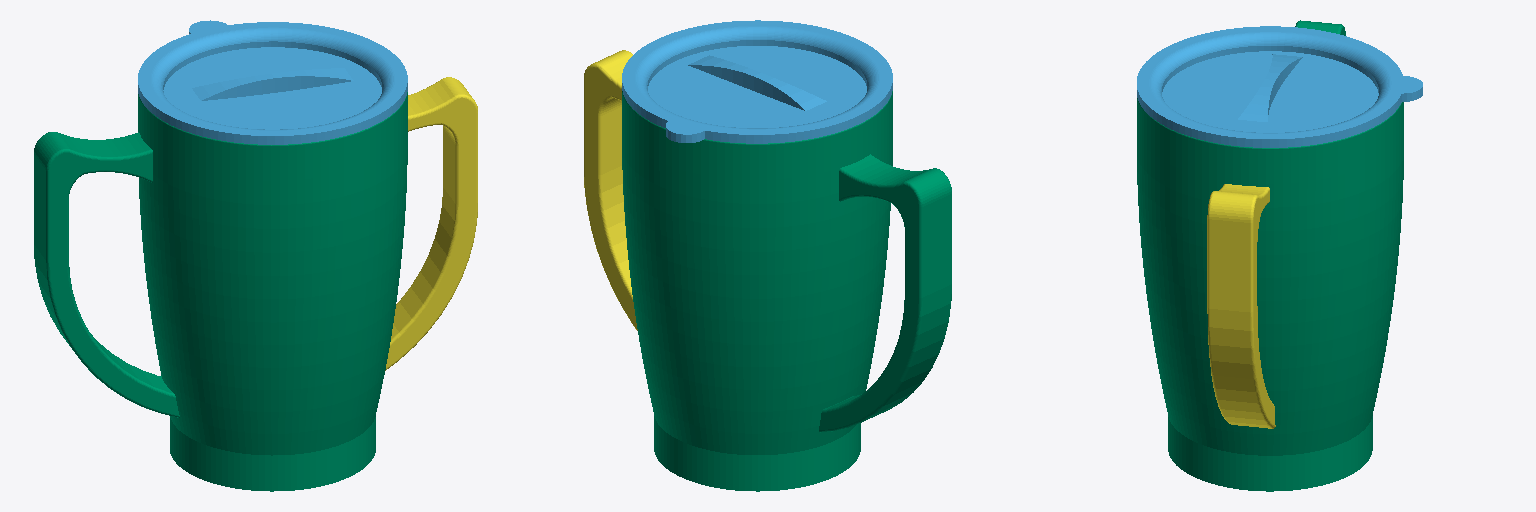
URDF robot description (partnet_fd1f9e8add1fcbd123c841f9d5051936):
<?xml version="1.0" ?>
<robot name="partnet_fd1f9e8add1fcbd123c841f9d5051936">
	<link name="base"/>
	<link name="link_0">
		<visual name="lid-3">
			<origin xyz="0.0013007224518146773 0 0.006225716369432219"/>
			<geometry>
				<mesh filename="textured_objs/original-1.obj" scale="0.1 0.1 0.1"/>
			</geometry>
		</visual>
		<visual name="lid-3">
			<origin xyz="0.0013007224518146773 0 0.006225716369432219"/>
			<geometry>
				<mesh filename="textured_objs/original-6.obj" scale="0.1 0.1 0.1"/>
			</geometry>
		</visual>
		<visual name="lid-3">
			<origin xyz="0.0013007224518146773 0 0.006225716369432219"/>
			<geometry>
				<mesh filename="textured_objs/original-4.obj" scale="0.1 0.1 0.1"/>
			</geometry>
		</visual>
		<collision>
			<origin xyz="0.0013007224518146773 0 0.006225716369432219"/>
			<geometry>
				<mesh filename="textured_objs/original-1.obj" scale="0.1 0.1 0.1"/>
			</geometry>
		</collision>
		<collision>
			<origin xyz="0.0013007224518146773 0 0.006225716369432219"/>
			<geometry>
				<mesh filename="textured_objs/original-6.obj" scale="0.1 0.1 0.1"/>
			</geometry>
		</collision>
		<collision>
			<origin xyz="0.0013007224518146773 0 0.006225716369432219"/>
			<geometry>
				<mesh filename="textured_objs/original-4.obj" scale="0.1 0.1 0.1"/>
			</geometry>
		</collision>
	</link>
	<joint name="joint_0" type="prismatic">
		<origin xyz="-0.0013007224518146773 0 -0.006225716369432219"/>
		<axis xyz="0 1 0"/>
		<child link="link_0"/>
		<parent link="link_1"/>
		<limit lower="0" upper="0.1080000000000001"/>
	</joint>
	<link name="link_1">
		<visual name="body-1">
			<origin xyz="0 0 0"/>
			<geometry>
				<mesh filename="textured_objs/original-2.obj" scale="0.1 0.1 0.1"/>
			</geometry>
		</visual>
		<visual name="body-1">
			<origin xyz="0 0 0"/>
			<geometry>
				<mesh filename="textured_objs/new-0.obj" scale="0.1 0.1 0.1"/>
			</geometry>
		</visual>
		<visual name="body-1">
			<origin xyz="0 0 0"/>
			<geometry>
				<mesh filename="textured_objs/new-1.obj" scale="0.1 0.1 0.1"/>
			</geometry>
		</visual>
		<visual name="handle-2">
			<origin xyz="0 0 0"/>
			<geometry>
				<mesh filename="textured_objs/original-5.obj" scale="0.1 0.1 0.1"/>
			</geometry>
		</visual>
		<collision>
			<origin xyz="0 0 0"/>
			<geometry>
				<mesh filename="textured_objs/original-2.obj" scale="0.1 0.1 0.1"/>
			</geometry>
		</collision>
		<collision>
			<origin xyz="0 0 0"/>
			<geometry>
				<mesh filename="textured_objs/new-0.obj" scale="0.1 0.1 0.1"/>
			</geometry>
		</collision>
		<collision>
			<origin xyz="0 0 0"/>
			<geometry>
				<mesh filename="textured_objs/new-1.obj" scale="0.1 0.1 0.1"/>
			</geometry>
		</collision>
		<collision>
			<origin xyz="0 0 0"/>
			<geometry>
				<mesh filename="textured_objs/original-5.obj" scale="0.1 0.1 0.1"/>
			</geometry>
		</collision>
	</link>
	<joint name="joint_1" type="fixed">
		<origin rpy="1.570796326794897 0 -1.570796326794897" xyz="0 0 0"/>
		<child link="link_1"/>
		<parent link="base"/>
	</joint>

	<link name="link_2">
		<visual name="handle-3">
			<origin xyz="0 0 0"/>
			<geometry>
				<mesh filename="textured_objs/original-5.obj" scale="0.1 0.1 0.1"/>
			</geometry>
		</visual>
		<collision>
			<origin xyz="0 0 0"/>
			<geometry>
				<mesh filename="textured_objs/original-5.obj" scale="0.1 0.1 0.1"/>
			</geometry>
		</collision>
	</link>
	<joint name="joint_2" type="fixed">
		<origin rpy="1.570796326794897 0 1.570796326794897" xyz="0 0 0"/>
		<child link="link_2"/>
		<parent link="base"/>
	</joint>
</robot>

--- Facts derived from the render (not from the file) ---
3 views of the same robot in one strip: view 1: azimuth 30°, elevation 25°; view 2: azimuth 150°, elevation 25°; view 3: azimuth 270°, elevation 25° (orthographic).
Model partnet_fd1f9e8add1fcbd123c841f9d5051936 with 4 links and 3 joints (1 prismatic, 2 fixed), rooted at base, posed all joints at 0.
Visible links, largest first — view 1: link_1, link_0, link_2; view 2: link_1, link_0, link_2; view 3: link_1, link_0, link_2.
Link boxes in pixels (x1=…): link_1: x1=34, y1=92, x2=407, y2=491; link_0: x1=138, y1=20, x2=407, y2=144; link_2: x1=385, y1=77, x2=477, y2=370; link_1: x1=622, y1=91, x2=951, y2=491; link_0: x1=622, y1=20, x2=892, y2=143; link_2: x1=584, y1=50, x2=637, y2=330; link_1: x1=1137, y1=20, x2=1403, y2=491; link_0: x1=1137, y1=26, x2=1422, y2=147; link_2: x1=1207, y1=184, x2=1275, y2=428.
Size in the robot's own frame: 0.1754 by 0.112 by 0.1587 metres.
7 mesh visuals loaded from 7 distinct referenced files (6 OBJ); not drawn: 1 (reference not matched to a file when rendering).